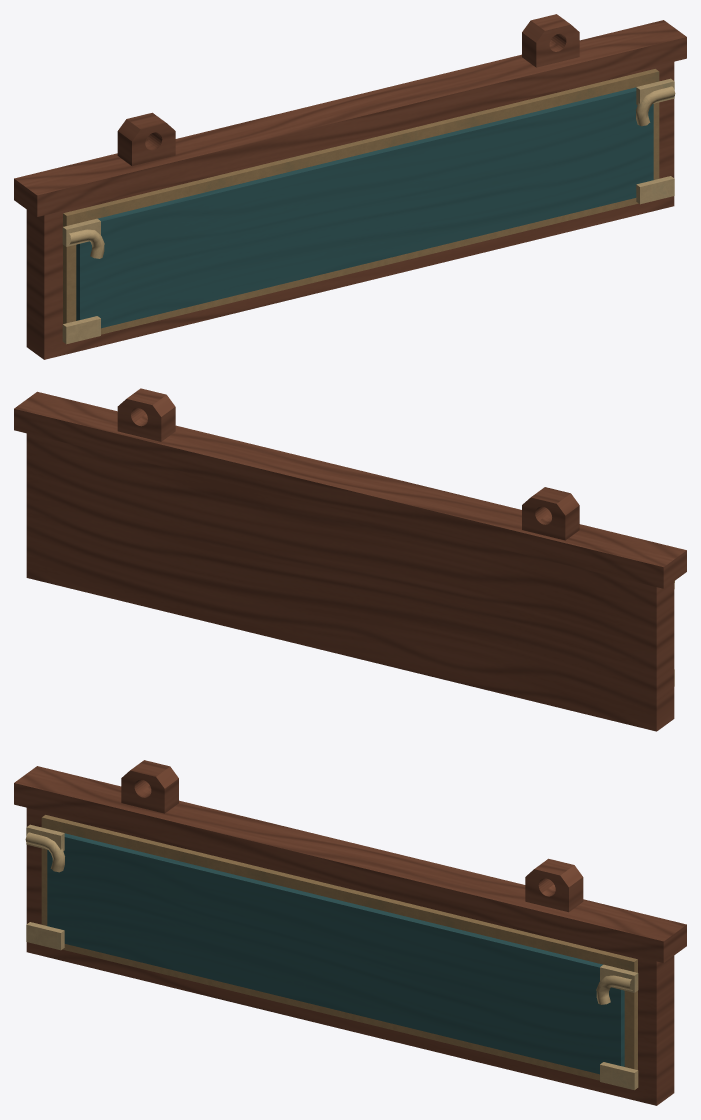
3 views of the same model, one above another, from view 1: azimuth 30°, elevation 25°; view 2: azimuth 150°, elevation 25°; view 3: azimuth 330°, elevation 25° (orthographic).
Parts seen in each view (by area): view 1: BlankTealInscriptionField_teal, BlankTealInscriptionField_heartwood, BlankTealInscriptionField_bronze, PiercedMountingEars_heartwood, BlankTealInscriptionField_gold, GildedCorners_gold; view 2: BlankTealInscriptionField_heartwood, PiercedMountingEars_heartwood; view 3: BlankTealInscriptionField_teal, BlankTealInscriptionField_heartwood, BlankTealInscriptionField_bronze, PiercedMountingEars_heartwood, BlankTealInscriptionField_gold, GildedCorners_gold.
Boxes of the visible parts, x1,y1,x2,y2 form: BlankTealInscriptionField_teal: (76, 87, 653, 328); BlankTealInscriptionField_heartwood: (14, 20, 686, 359); BlankTealInscriptionField_bronze: (63, 69, 659, 334); PiercedMountingEars_heartwood: (117, 14, 579, 166); BlankTealInscriptionField_gold: (62, 78, 674, 344); GildedCorners_gold: (68, 86, 675, 258); BlankTealInscriptionField_heartwood: (14, 391, 686, 731); PiercedMountingEars_heartwood: (117, 388, 579, 540); BlankTealInscriptionField_teal: (47, 833, 624, 1074); BlankTealInscriptionField_heartwood: (14, 766, 686, 1105); BlankTealInscriptionField_bronze: (41, 815, 637, 1080); PiercedMountingEars_heartwood: (121, 760, 583, 912); BlankTealInscriptionField_gold: (26, 824, 638, 1090); GildedCorners_gold: (25, 832, 632, 1004).
Bounding box in the file's own units: 2.99 × 0.895 × 0.2745.
Materials: 4 (4 with a texture image).
